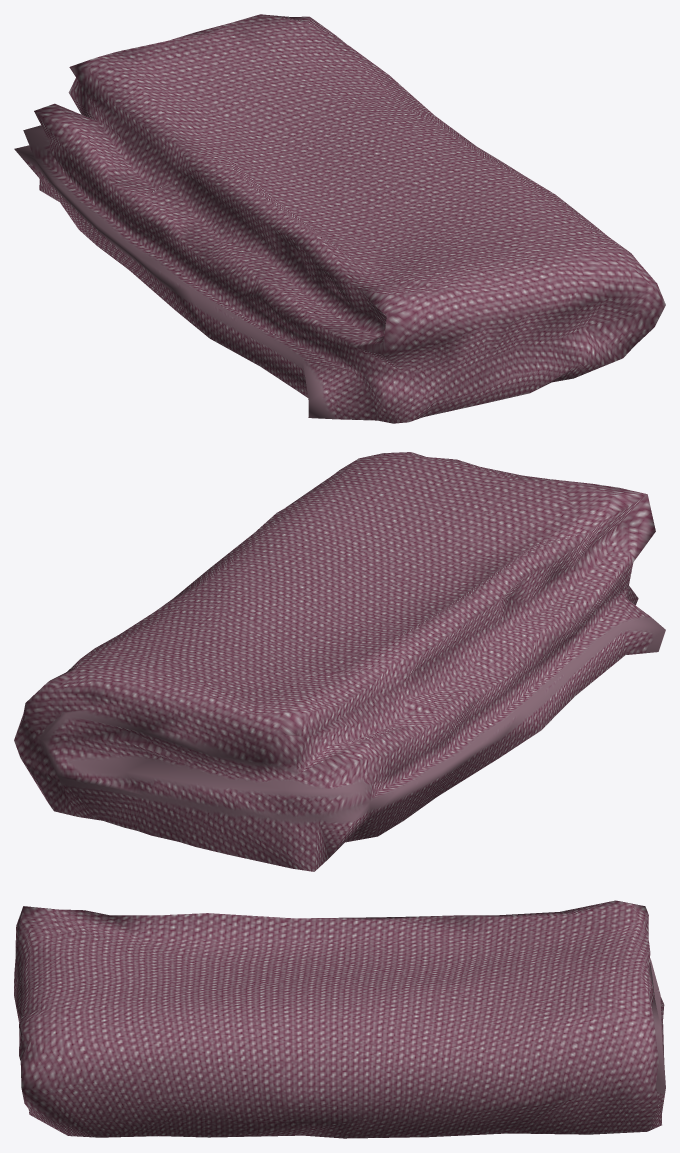
Rendered from Towel_C.fbx.
3 renders of one model, top to bottom at view 1: azimuth 30°, elevation 25°; view 2: azimuth 150°, elevation 25°; view 3: azimuth 270°, elevation 25°, orthographic. The views are drawn at different scales.
Visible parts, largest first — view 1: Towel_C_LOD0; view 2: Towel_C_LOD0; view 3: Towel_C_LOD0.
Boxes of the visible parts, x1,y1,x2,y2 form: Towel_C_LOD0: [14, 14, 665, 423]; Towel_C_LOD0: [14, 452, 665, 871]; Towel_C_LOD0: [14, 900, 665, 1138].
Size of what is drawn, in the model's own units: 20.35 by 7.74 by 36.39.
